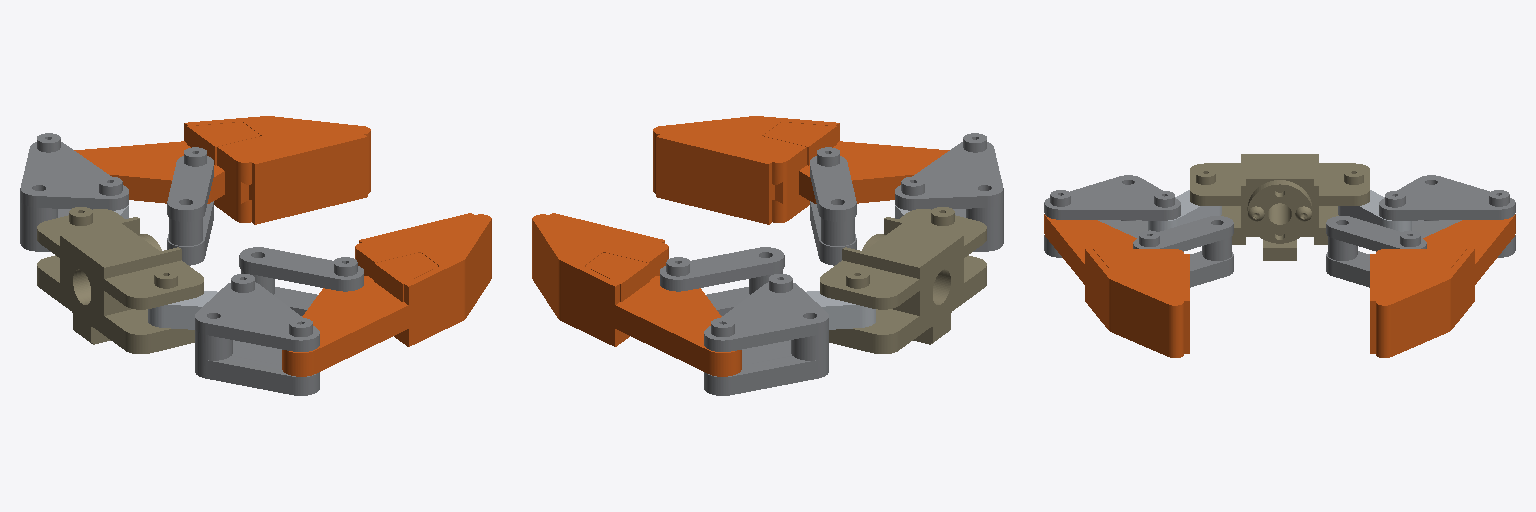
URDF robot description (lead_screw_gripper):
<?xml version="1.0" ?>
<!-- Generated using onshape-to-robot -->
<!-- Onshape https://cad.onshape.com/documents/21eb00e5286d05130362fe39/v/5cdac080a8e3ed3cdc956c12/e/1637fb3a48d9ca739a013816 -->
<robot name="lead_screw_gripper">
  <!-- Link base_link -->
  <link name="base_link">
    <inertial>
      <origin xyz="-0.0502696 6.01763e-05 0.0115142" rpy="0 0 0"/>
      <mass value="0.893804"/>
      <inertia ixx="0.000518783" ixy="-2.46723e-06" ixz="-5.96083e-05" iyy="0.00135135" iyz="-1.91356e-06" izz="0.00152391"/>
    </inertial>
    <!-- Part base_link_parts -->
    <visual>
      <origin xyz="-0.0502696 6.01763e-05 0.0115142" rpy="0 -0 0"/>
      <geometry>
        <mesh filename="package://lead_screw_gripper_description/onshape/assets/merged/base_link_visual.stl"/>
      </geometry>
      <material name="base_link_parts_material">
        <color rgba="0.216878 0.234037 0.246909 1"/>
      </material>
    </visual>
  </link>
  <!-- Link bell_crank_U_link -->
  <link name="bell_crank_U_link">
    <inertial>
      <origin xyz="0.0127652 -0.00436964 -0.000173751" rpy="0 0 0"/>
      <mass value="0.0135165"/>
      <inertia ixx="2.99928e-06" ixy="8.5137e-08" ixz="8.6611e-08" iyy="1.17674e-06" iyz="-1.8601e-08" izz="2.97914e-06"/>
    </inertial>
    <!-- Part bell_crank_U_link_parts -->
    <visual>
      <origin xyz="0.0127652 -0.00436964 -0.000173751" rpy="3.14159 -0 0"/>
      <geometry>
        <mesh filename="package://lead_screw_gripper_description/onshape/assets/merged/bell_crank_U_link_visual.stl"/>
      </geometry>
      <material name="bell_crank_U_link_parts_material">
        <color rgba="0.554282 0.562059 0.575021 1"/>
      </material>
    </visual>
  </link>
  <!-- Link finger_U_link -->
  <link name="finger_U_link">
    <inertial>
      <origin xyz="0.0223399 0.0507657 -0.00010495" rpy="0 0 0"/>
      <mass value="0.0294141"/>
      <inertia ixx="1.26318e-05" ixy="-5.04243e-06" ixz="2.532e-09" iyy="4.78822e-06" iyz="-9.068e-09" izz="1.59699e-05"/>
    </inertial>
    <!-- Part finger_U_link_parts -->
    <visual>
      <origin xyz="0.0223399 0.0507657 -0.00010495" rpy="3.14159 0 0.677441"/>
      <geometry>
        <mesh filename="package://lead_screw_gripper_description/onshape/assets/merged/finger_U_link_visual.stl"/>
      </geometry>
      <material name="finger_U_link_parts_material">
        <color rgba="0.854343 0.427803 0.158577 1"/>
      </material>
    </visual>
  </link>
  <!-- Frame closing_F2_U_2 (dummy link + fixed joint) -->
  <link name="closing_F2_U_2">
    <origin xyz="0 0 0" rpy="0 -0 0"/>
    <inertial>
      <origin xyz="0 0 0" rpy="0 0 0"/>
      <mass value="1e-9"/>
      <inertia ixx="0" ixy="0" ixz="0" iyy="0" iyz="0" izz="0"/>
    </inertial>
  </link>
  <joint name="closing_F2_U_2_frame" type="fixed">
    <origin xyz="0.00641464 0.0435115 0" rpy="3.14159 -0 0.677441"/>
    <parent link="finger_U_link"/>
    <child link="closing_F2_U_2"/>
    <axis xyz="0 0 0"/>
  </joint>
  <!-- Joint from bell_crank_U_link to finger_U_link -->
  <joint name="finger_U" type="revolute">
    <origin xyz="0.0163121 -0.0227578 0" rpy="0 0 -0.677441"/>
    <parent link="bell_crank_U_link"/>
    <child link="finger_U_link"/>
    <axis xyz="0 0 1"/>
    <limit effort="20" velocity="10" lower="-1.2198" upper="0"/>
  </joint>
  <!-- Link conrod_U_link -->
  <link name="conrod_U_link">
    <inertial>
      <origin xyz="-0.0113355 -0.000215631 -5e-05" rpy="0 0 0"/>
      <mass value="0.0025036"/>
      <inertia ixx="3.7431e-08" ixy="-3.285e-09" ixz="-0" iyy="2.10056e-07" iyz="0" izz="2.23386e-07"/>
    </inertial>
    <!-- Part conrod_U_link_parts -->
    <visual>
      <origin xyz="-0.0113355 -0.000215631 -5e-05" rpy="3.14159 0 0.677441"/>
      <geometry>
        <mesh filename="package://lead_screw_gripper_description/onshape/assets/merged/conrod_U_link_visual.stl"/>
      </geometry>
      <material name="conrod_U_link_parts_material">
        <color rgba="0.709804 0.729412 0.74902 1"/>
      </material>
    </visual>
  </link>
  <!-- Frame closing_C_U_2 (dummy link + fixed joint) -->
  <link name="closing_C_U_2">
    <origin xyz="0 0 0" rpy="0 -0 0"/>
    <inertial>
      <origin xyz="0 0 0" rpy="0 0 0"/>
      <mass value="1e-9"/>
      <inertia ixx="0" ixy="0" ixz="0" iyy="0" iyz="0" izz="0"/>
    </inertial>
  </link>
  <joint name="closing_C_U_2_frame" type="fixed">
    <origin xyz="-0.022671 -0.000431263 0" rpy="3.14159 0 0.282782"/>
    <parent link="conrod_U_link"/>
    <child link="closing_C_U_2"/>
    <axis xyz="0 0 0"/>
  </joint>
  <!-- Joint from bell_crank_U_link to conrod_U_link -->
  <joint name="conrod_U" type="revolute">
    <origin xyz="0.0169948 0.0121814 0" rpy="0 0 -0.677441"/>
    <parent link="bell_crank_U_link"/>
    <child link="conrod_U_link"/>
    <axis xyz="0 0 1"/>
    <limit effort="0.5" velocity="10" lower="-0.825" upper="0"/>
  </joint>
  <!-- Joint from base_link to bell_crank_U_link -->
  <joint name="bell_crank_U" type="revolute">
    <origin xyz="0 0.0509701 0.01025" rpy="3.14159 -0 0"/>
    <parent link="base_link"/>
    <child link="bell_crank_U_link"/>
    <axis xyz="0 0 1"/>
    <limit effort="3" velocity="10" lower="0" upper="1.2198"/>
  </joint>
  <!-- Link front_crank_U_link -->
  <link name="front_crank_U_link">
    <inertial>
      <origin xyz="0.0103034 -0.0143747 -0.000262005" rpy="0 0 0"/>
      <mass value="0.00667164"/>
      <inertia ixx="8.87427e-07" ixy="3.9702e-07" ixz="6.918e-08" iyy="6.181e-07" iyz="-9.6516e-08" izz="9.32036e-07"/>
    </inertial>
    <!-- Part front_crank_U_link_parts -->
    <visual>
      <origin xyz="0.0103034 -0.0143747 -0.000262005" rpy="3.14159 -0 0"/>
      <geometry>
        <mesh filename="package://lead_screw_gripper_description/onshape/assets/merged/front_crank_U_link_visual.stl"/>
      </geometry>
      <material name="front_crank_U_link_parts_material">
        <color rgba="0.551246 0.558971 0.571846 1"/>
      </material>
    </visual>
  </link>
  <!-- Frame closing_F2_U_1 (dummy link + fixed joint) -->
  <link name="closing_F2_U_1">
    <origin xyz="0 0 0" rpy="0 -0 0"/>
    <inertial>
      <origin xyz="0 0 0" rpy="0 0 0"/>
      <mass value="1e-9"/>
      <inertia ixx="0" ixy="0" ixz="0" iyy="0" iyz="0" izz="0"/>
    </inertial>
  </link>
  <joint name="closing_F2_U_1_frame" type="fixed">
    <origin xyz="0.0163121 -0.0227578 0" rpy="3.14159 -0 -0.677441"/>
    <parent link="front_crank_U_link"/>
    <child link="closing_F2_U_1"/>
    <axis xyz="0 0 0"/>
  </joint>
  <!-- Joint from base_link to front_crank_U_link -->
  <joint name="front_crank_U" type="revolute">
    <origin xyz="0.0322712 0.0210876 0.01025" rpy="3.14159 -0 0"/>
    <parent link="base_link"/>
    <child link="front_crank_U_link"/>
    <axis xyz="0 0 1"/>
    <limit effort="1" velocity="10" lower="0" upper="1.2198"/>
  </joint>
  <!-- Link bell_crank_L_link -->
  <link name="bell_crank_L_link">
    <inertial>
      <origin xyz="0.0127652 0.00436964 -0.000173751" rpy="0 0 0"/>
      <mass value="0.0135165"/>
      <inertia ixx="2.99928e-06" ixy="-8.5137e-08" ixz="8.6612e-08" iyy="1.17674e-06" iyz="1.8601e-08" izz="2.97915e-06"/>
    </inertial>
    <!-- Part bell_crank_L_link_parts -->
    <visual>
      <origin xyz="0.0127652 0.00436964 -0.000173751" rpy="3.14159 -0 0"/>
      <geometry>
        <mesh filename="package://lead_screw_gripper_description/onshape/assets/merged/bell_crank_L_link_visual.stl"/>
      </geometry>
      <material name="bell_crank_L_link_parts_material">
        <color rgba="0.554283 0.562059 0.575021 1"/>
      </material>
    </visual>
  </link>
  <!-- Link finger_L_link -->
  <link name="finger_L_link">
    <inertial>
      <origin xyz="0.0223399 -0.0507657 -0.000104948" rpy="0 0 0"/>
      <mass value="0.0294141"/>
      <inertia ixx="1.26318e-05" ixy="5.04243e-06" ixz="2.533e-09" iyy="4.78822e-06" iyz="9.068e-09" izz="1.59699e-05"/>
    </inertial>
    <!-- Part finger_L_link_parts -->
    <visual>
      <origin xyz="0.0223399 -0.0507657 -0.000104948" rpy="3.14159 0 -0.677441"/>
      <geometry>
        <mesh filename="package://lead_screw_gripper_description/onshape/assets/merged/finger_L_link_visual.stl"/>
      </geometry>
      <material name="finger_L_link_parts_material">
        <color rgba="0.854343 0.427803 0.158577 1"/>
      </material>
    </visual>
  </link>
  <!-- Frame closing_F2_L_2 (dummy link + fixed joint) -->
  <link name="closing_F2_L_2">
    <origin xyz="0 0 0" rpy="0 -0 0"/>
    <inertial>
      <origin xyz="0 0 0" rpy="0 0 0"/>
      <mass value="1e-9"/>
      <inertia ixx="0" ixy="0" ixz="0" iyy="0" iyz="0" izz="0"/>
    </inertial>
  </link>
  <joint name="closing_F2_L_2_frame" type="fixed">
    <origin xyz="0.00641464 -0.0435115 0" rpy="3.14159 -0 -0.677441"/>
    <parent link="finger_L_link"/>
    <child link="closing_F2_L_2"/>
    <axis xyz="0 0 0"/>
  </joint>
  <!-- Joint from bell_crank_L_link to finger_L_link -->
  <joint name="finger_L" type="revolute">
    <origin xyz="0.0163121 0.0227578 0" rpy="0 -0 0.677441"/>
    <parent link="bell_crank_L_link"/>
    <child link="finger_L_link"/>
    <axis xyz="0 0 1"/>
    <limit effort="20" velocity="10" lower="0" upper="1.2198"/>
  </joint>
  <!-- Link conrod_L_link -->
  <link name="conrod_L_link">
    <inertial>
      <origin xyz="-0.0113355 0.000215631 -5e-05" rpy="0 0 0"/>
      <mass value="0.0025036"/>
      <inertia ixx="3.7431e-08" ixy="3.285e-09" ixz="0" iyy="2.10056e-07" iyz="0" izz="2.23386e-07"/>
    </inertial>
    <!-- Part conrod_L_link_parts -->
    <visual>
      <origin xyz="-0.0113355 0.000215631 -5e-05" rpy="3.14159 0 -0.677441"/>
      <geometry>
        <mesh filename="package://lead_screw_gripper_description/onshape/assets/merged/conrod_L_link_visual.stl"/>
      </geometry>
      <material name="conrod_L_link_parts_material">
        <color rgba="0.709804 0.729412 0.74902 1"/>
      </material>
    </visual>
  </link>
  <!-- Frame closing_C_L_2 (dummy link + fixed joint) -->
  <link name="closing_C_L_2">
    <origin xyz="0 0 0" rpy="0 -0 0"/>
    <inertial>
      <origin xyz="0 0 0" rpy="0 0 0"/>
      <mass value="1e-9"/>
      <inertia ixx="0" ixy="0" ixz="0" iyy="0" iyz="0" izz="0"/>
    </inertial>
  </link>
  <joint name="closing_C_L_2_frame" type="fixed">
    <origin xyz="-0.022671 0.000431263 0" rpy="3.14159 0 -0.282782"/>
    <parent link="conrod_L_link"/>
    <child link="closing_C_L_2"/>
    <axis xyz="0 0 0"/>
  </joint>
  <!-- Joint from bell_crank_L_link to conrod_L_link -->
  <joint name="conrod_L" type="revolute">
    <origin xyz="0.0169948 -0.0121814 0" rpy="0 -0 0.677441"/>
    <parent link="bell_crank_L_link"/>
    <child link="conrod_L_link"/>
    <axis xyz="0 0 1"/>
    <limit effort="0.5" velocity="10" lower="0" upper="0.825"/>
  </joint>
  <!-- Joint from base_link to bell_crank_L_link -->
  <joint name="bell_crank_L" type="revolute">
    <origin xyz="0 -0.0509701 0.01025" rpy="3.14159 -0 0"/>
    <parent link="base_link"/>
    <child link="bell_crank_L_link"/>
    <axis xyz="0 0 1"/>
    <limit effort="20" velocity="10" lower="-1.2198" upper="0"/>
  </joint>
  <!-- Link front_crank_L_link -->
  <link name="front_crank_L_link">
    <inertial>
      <origin xyz="0.0103034 0.0143747 -0.000262005" rpy="0 0 0"/>
      <mass value="0.00667164"/>
      <inertia ixx="8.87427e-07" ixy="-3.9702e-07" ixz="6.918e-08" iyy="6.181e-07" iyz="9.6516e-08" izz="9.32036e-07"/>
    </inertial>
    <!-- Part front_crank_L_link_parts -->
    <visual>
      <origin xyz="0.0103034 0.0143747 -0.000262005" rpy="3.14159 -0 0"/>
      <geometry>
        <mesh filename="package://lead_screw_gripper_description/onshape/assets/merged/front_crank_L_link_visual.stl"/>
      </geometry>
      <material name="front_crank_L_link_parts_material">
        <color rgba="0.551246 0.558971 0.571846 1"/>
      </material>
    </visual>
  </link>
  <!-- Frame closing_F2_L_1 (dummy link + fixed joint) -->
  <link name="closing_F2_L_1">
    <origin xyz="0 0 0" rpy="0 -0 0"/>
    <inertial>
      <origin xyz="0 0 0" rpy="0 0 0"/>
      <mass value="1e-9"/>
      <inertia ixx="0" ixy="0" ixz="0" iyy="0" iyz="0" izz="0"/>
    </inertial>
  </link>
  <joint name="closing_F2_L_1_frame" type="fixed">
    <origin xyz="0.0163121 0.0227578 0" rpy="3.14159 -0 0.677441"/>
    <parent link="front_crank_L_link"/>
    <child link="closing_F2_L_1"/>
    <axis xyz="0 0 0"/>
  </joint>
  <!-- Joint from base_link to front_crank_L_link -->
  <joint name="front_crank_L" type="revolute">
    <origin xyz="0.0322712 -0.0210876 0.01025" rpy="3.14159 -0 0"/>
    <parent link="base_link"/>
    <child link="front_crank_L_link"/>
    <axis xyz="0 0 1"/>
    <limit effort="1" velocity="10" lower="-1.2198" upper="0"/>
  </joint>
  <!-- Link carriage_link -->
  <link name="carriage_link">
    <inertial>
      <origin xyz="0 0.000454995 -0.0158538" rpy="0 0 0"/>
      <mass value="0.0372895"/>
      <inertia ixx="3.44468e-06" ixy="-0" ixz="0" iyy="9.9148e-06" iyz="-3.5253e-08" izz="1.0001e-05"/>
    </inertial>
    <!-- Part carriage_link_parts -->
    <visual>
      <origin xyz="0 0.000454995 -0.0158538" rpy="1.5708 1.5708 0"/>
      <geometry>
        <mesh filename="package://lead_screw_gripper_description/onshape/assets/merged/carriage_link_visual.stl"/>
      </geometry>
      <material name="carriage_link_parts_material">
        <color rgba="0.568939 0.539651 0.447382 1"/>
      </material>
    </visual>
  </link>
  <!-- Frame closing_C_U_1 (dummy link + fixed joint) -->
  <link name="closing_C_U_1">
    <origin xyz="0 0 0" rpy="0 -0 0"/>
    <inertial>
      <origin xyz="0 0 0" rpy="0 0 0"/>
      <mass value="1e-9"/>
      <inertia ixx="0" ixy="0" ixz="0" iyy="0" iyz="0" izz="0"/>
    </inertial>
  </link>
  <joint name="closing_C_U_1_frame" type="fixed">
    <origin xyz="0.0249145 0 -0.015344" rpy="1.5708 1.5708 0"/>
    <parent link="carriage_link"/>
    <child link="closing_C_U_1"/>
    <axis xyz="0 0 0"/>
  </joint>
  <!-- Frame closing_C_L_1 (dummy link + fixed joint) -->
  <link name="closing_C_L_1">
    <origin xyz="0 0 0" rpy="0 -0 0"/>
    <inertial>
      <origin xyz="0 0 0" rpy="0 0 0"/>
      <mass value="1e-9"/>
      <inertia ixx="0" ixy="0" ixz="0" iyy="0" iyz="0" izz="0"/>
    </inertial>
  </link>
  <joint name="closing_C_L_1_frame" type="fixed">
    <origin xyz="-0.0249145 0 -0.015344" rpy="1.5708 1.5708 0"/>
    <parent link="carriage_link"/>
    <child link="closing_C_L_1"/>
    <axis xyz="0 0 0"/>
  </joint>
  <!-- Joint from base_link to carriage_link -->
  <joint name="carriage" type="prismatic">
    <origin xyz="-0.0162842 0 0.01025" rpy="-1.5708 -0 1.5708"/>
    <parent link="base_link"/>
    <child link="carriage_link"/>
    <axis xyz="0 0 1"/>
    <limit effort="50" velocity="0.1" lower="0" upper="0.0266"/>
  </joint>
</robot>

--- Render facts (derived) ---
3 views of the same robot in one strip: view 1: azimuth 30°, elevation 25°; view 2: azimuth 150°, elevation 25°; view 3: azimuth 270°, elevation 25° (orthographic).
Robot: lead_screw_gripper — 18 links, 17 joints (8 revolute, 1 prismatic, 8 fixed); root link base_link; default pose: all joints at 0.
Visible links, largest first — view 1: finger_U_link, finger_L_link, carriage_link, bell_crank_L_link, bell_crank_U_link, front_crank_L_link, front_crank_U_link, conrod_L_link; view 2: finger_L_link, finger_U_link, carriage_link, bell_crank_U_link, bell_crank_L_link, front_crank_U_link, front_crank_L_link, conrod_U_link; view 3: carriage_link, finger_U_link, finger_L_link, bell_crank_U_link, bell_crank_L_link, front_crank_U_link, front_crank_L_link, conrod_U_link, conrod_L_link.
Link boxes in pixels (x1=…): finger_U_link: x1=74, y1=116, x2=370, y2=224; finger_L_link: x1=282, y1=213, x2=491, y2=376; carriage_link: x1=37, y1=207, x2=203, y2=353; bell_crank_L_link: x1=195, y1=274, x2=319, y2=395; bell_crank_U_link: x1=20, y1=133, x2=128, y2=251; front_crank_L_link: x1=239, y1=247, x2=363, y2=315; front_crank_U_link: x1=167, y1=147, x2=213, y2=265; conrod_L_link: x1=148, y1=291, x2=217, y2=329; finger_L_link: x1=653, y1=116, x2=949, y2=224; finger_U_link: x1=532, y1=213, x2=741, y2=376; carriage_link: x1=820, y1=207, x2=986, y2=353; bell_crank_U_link: x1=704, y1=274, x2=828, y2=395; bell_crank_L_link: x1=895, y1=133, x2=1003, y2=251; front_crank_U_link: x1=660, y1=247, x2=784, y2=315; front_crank_L_link: x1=810, y1=147, x2=856, y2=265; conrod_U_link: x1=806, y1=291, x2=875, y2=329; carriage_link: x1=1190, y1=154, x2=1369, y2=260; finger_U_link: x1=1370, y1=214, x2=1515, y2=357; finger_L_link: x1=1044, y1=214, x2=1189, y2=357; bell_crank_U_link: x1=1379, y1=175, x2=1515, y2=257; bell_crank_L_link: x1=1044, y1=175, x2=1180, y2=257; front_crank_U_link: x1=1326, y1=216, x2=1426, y2=287; front_crank_L_link: x1=1133, y1=216, x2=1233, y2=287; conrod_U_link: x1=1338, y1=190, x2=1411, y2=231; conrod_L_link: x1=1148, y1=190, x2=1221, y2=231.
Size in the robot's own frame: 0.1173 by 0.1585 by 0.0278 metres.
9 mesh visuals loaded from 10 distinct referenced files (9 binary STL); not drawn: 1 (reference not matched to a file when rendering).
